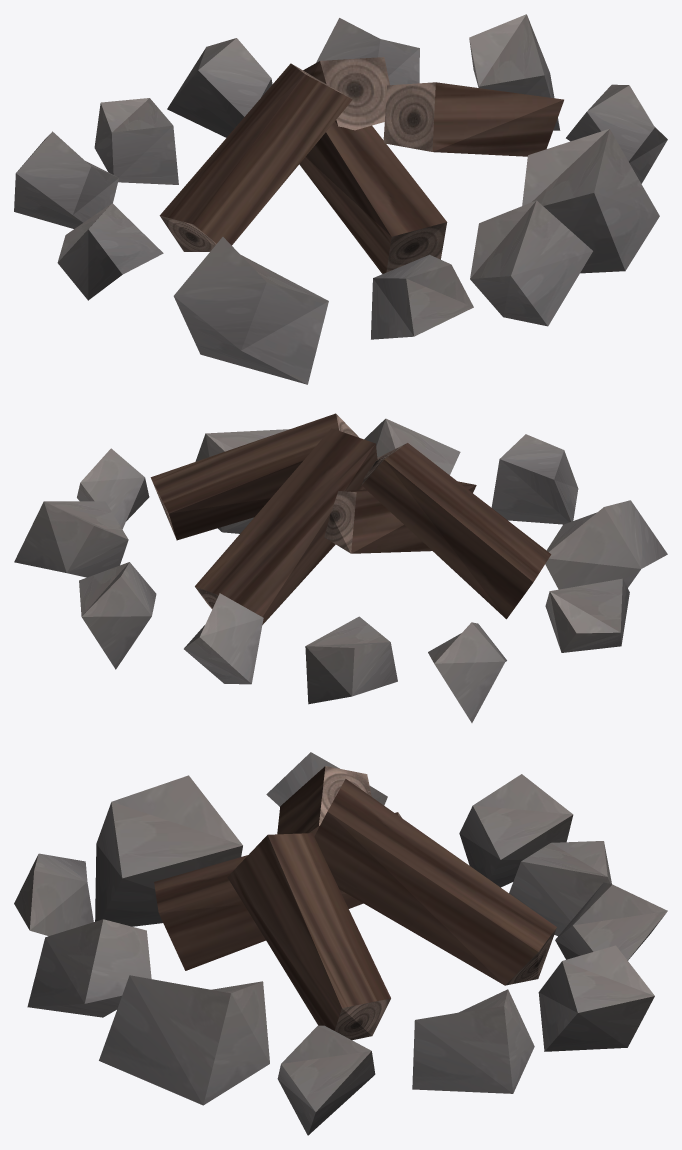
Rendered from campfire.glb.
3 renders of one model, top to bottom at view 1: azimuth 30°, elevation 25°; view 2: azimuth 150°, elevation 25°; view 3: azimuth 270°, elevation 25°, orthographic. The views are drawn at different scales.
Visible parts, largest first — view 1: rock_geo28; view 2: rock_geo28; view 3: rock_geo28.
Part boxes in pixels (x1,y1,x2,y2): rock_geo28: (14,14,667,384); rock_geo28: (14,413,667,722); rock_geo28: (14,752,667,1135).
Bounding box in the file's own units: 1.43 × 0.4866 × 1.27.
Materials: 2 (2 with a texture image).
